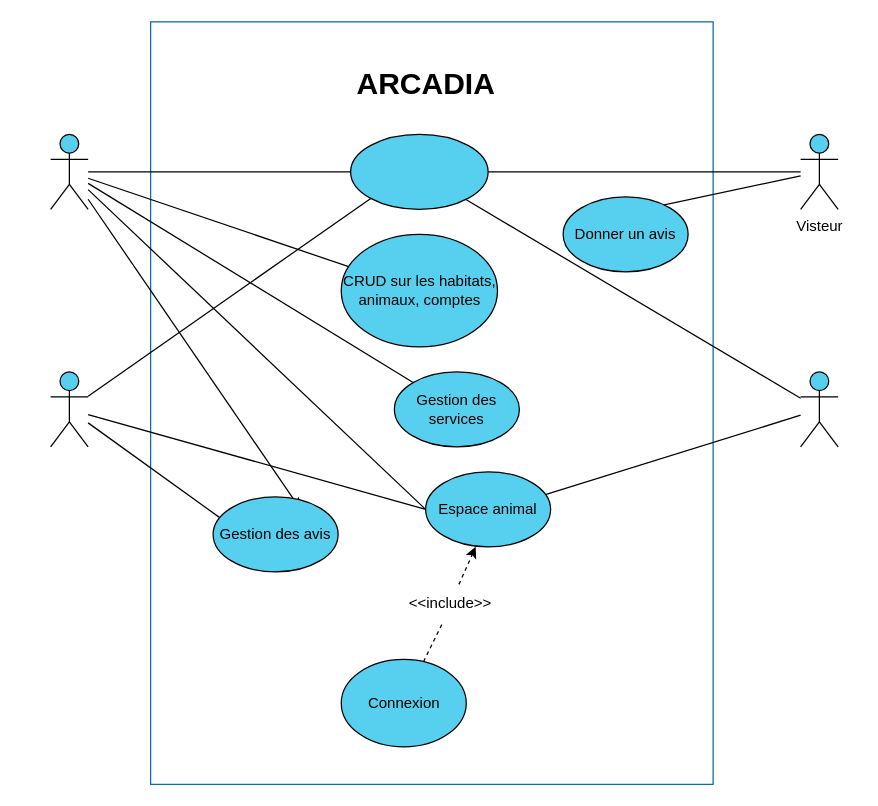
Image size: 878x806. Some labels were removed from this diagram. The centre of each missing label's shape, as x and y in pixels:
Accès à l'accueil, services, habitats: the point at 418,171
Administrateur: the point at 68,171
Employé: the point at 68,409
Vétérinaire: the point at 818,409
